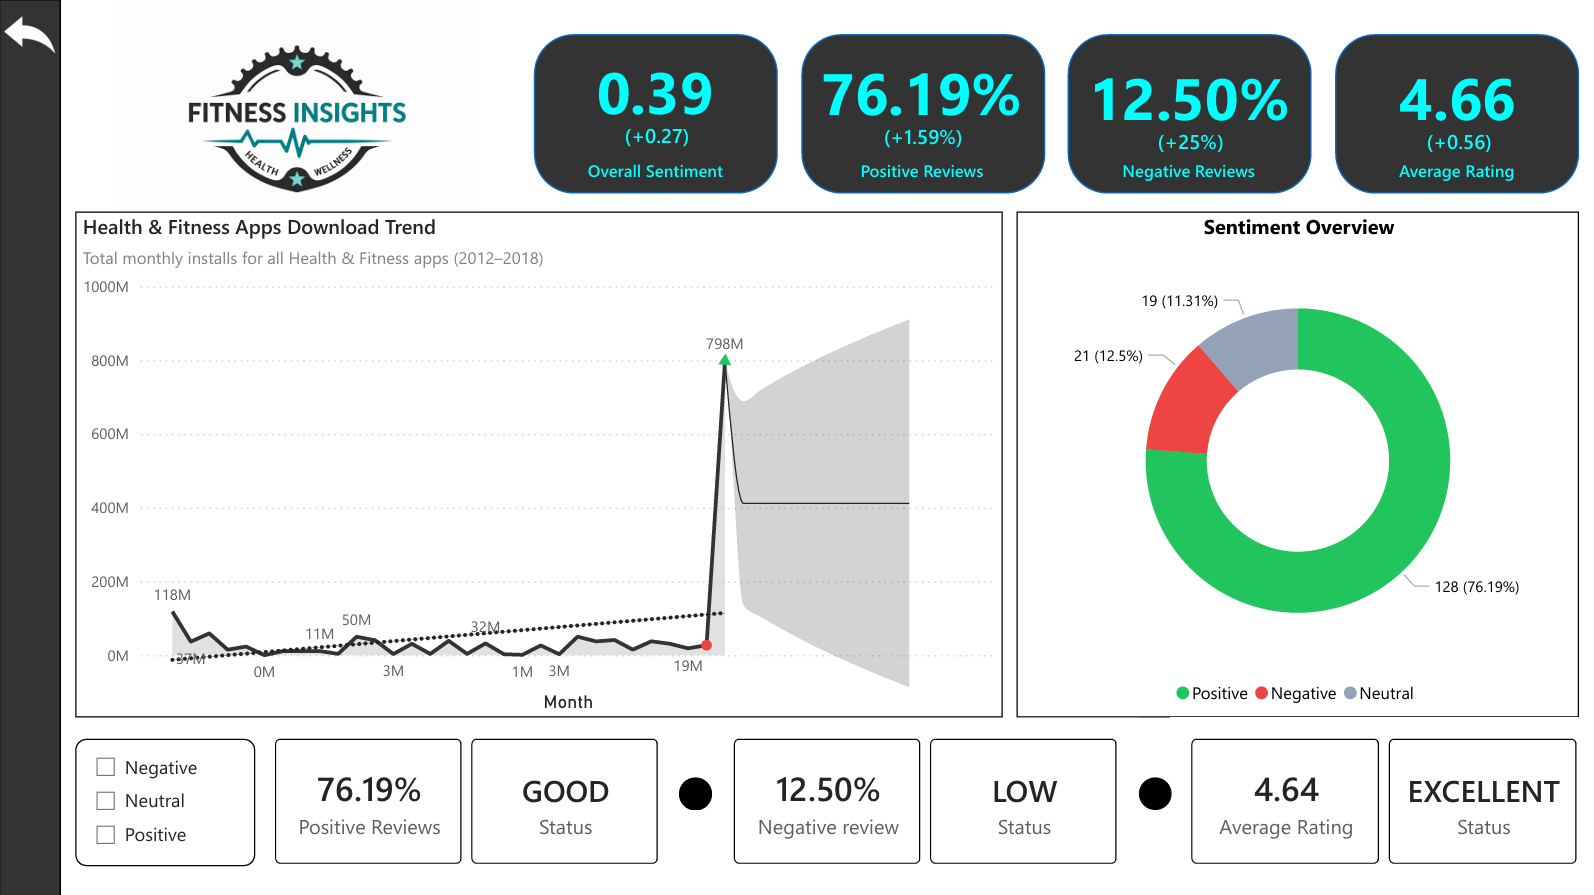

The page's visual inventory and layout, read from the dashboard file:
{"tool":"powerbi","page":{"name":"Sentiment Overview","canvas":[1280,720],"ordinal":0},"visuals":[{"type":"image","box":[60.9,0,357.2,193],"z":0},{"type":"shape","box":[1069.1,27.8,195,127.5],"z":1000},{"type":"shape","box":[855.3,27.8,195,127.5],"z":2000},{"type":"shape","box":[641.6,27.8,195,127.5],"z":3000},{"type":"donutChart","title":"Sentiment Overview","fields":{"Category":["clean_health_reviews.Sentiment"],"Y":["sentiment_by_feature.Count of sentiment"]},"box":[814.4,170,450.3,405.5],"z":4000},{"type":"cardVisual","fields":{"Data":["Measure (2).Positive review %","Measure (2).Positive Status"]},"box":[204.5,575.5,341.2,134.4],"z":5000},{"type":"shape","box":[427.8,27.8,195,127.5],"z":6000},{"type":"kpi","title":"Overall Sentiment","fields":{"Indicator":["Measure.Overall sentiment"],"Goal":["Measure.Target Sentiment score"],"TrendLine":["clean_health_reviews.Sentiment"]},"box":[436.5,32.2,175.8,118.3],"z":7000},{"type":"kpi","title":"Negative Reviews","fields":{"Indicator":["Measure.Negative review %"],"Goal":["Measure.Target Negative Review %"],"TrendLine":["emotion_analysis.Percentage of Reviews"]},"box":[863.8,36.8,175.8,119.5],"z":8000},{"type":"kpi","title":"Positive Reviews","fields":{"Goal":["Measure.Target Positive review"],"Indicator":["Measure.Positive review %"],"TrendLine":["emotion_analysis.Percentage of Reviews"]},"box":[650.2,33.3,175.8,118.3],"z":9000},{"type":"kpi","title":"Average Rating","fields":{"Indicator":["Measure.Average rating"],"Goal":["Measure.Target Average Rating"],"TrendLine":["clean_health_reviews.Rating Stars"]},"box":[1079.8,36.8,173.5,119.5],"z":10000},{"type":"shape","box":[0,0,49.4,720.2],"z":11000},{"type":"textbox","box":[674.3,122.9,128.7,28.7],"z":12000},{"type":"textbox","box":[887.9,122.9,127.5,28.7],"z":13000},{"type":"textbox","box":[1102.7,122.9,126.4,28.7],"z":14000},{"type":"textbox","box":[461.8,122.9,126.4,28.7],"z":15000},{"type":"cardVisual","fields":{"Data":["Measure.Negative review %","Measure.Negative Status"]},"box":[570.9,575.5,341.2,134.4],"z":16000},{"type":"cardVisual","fields":{"Data":["Measure.Average rating","Measure.Rating Status"]},"box":[937.3,575.5,342.3,134.4],"z":17000},{"type":"slicer","title":"Sentiments","fields":{"Values":["clean_health_reviews.Sentiment"]},"box":[60.9,591.6,143.6,102.2],"z":18000},{"type":"image","box":[0,0,49.4,57.4],"z":19000},{"type":"lineChart","title":"Health & Fitness Apps Download Trend ","fields":{"Category":["health_fitness_apps_installs.DateStr.Variation.Date Hierarchy.Year","health_fitness_apps_installs.DateStr.Variation.Date Hierarchy.Quarter","health_fitness_apps_installs.DateStr.Variation.Date Hierarchy.Month","health_fitness_apps_installs.DateStr.Variation.Date Hierarchy.Day"],"Y":["Sum(health_fitness_apps_installs.Installs_clean)"]},"box":[60.9,170,742.1,405.5],"z":20000},{"type":"shape","box":[544.5,622.6,26.4,26.4],"z":21000},{"type":"shape","box":[912.1,622.6,26,26],"z":22000}]}

Visuals, with their boxes in screenshot pixels (x1, y1, x2, y2), scaled from the page's 1280x720 canvas onto the 1594x895 screenshot:
image: region(76, 0, 521, 240)
shape: region(1331, 35, 1574, 193)
shape: region(1065, 35, 1308, 193)
shape: region(799, 35, 1042, 193)
"Sentiment Overview" donutChart: region(1014, 211, 1575, 715)
cardVisual - Measure (2).Positive review % x Measure (2).Positive Status: region(255, 715, 680, 882)
shape: region(533, 35, 776, 193)
"Overall Sentiment" kpi: region(544, 40, 763, 187)
"Negative Reviews" kpi: region(1076, 46, 1295, 194)
"Positive Reviews" kpi: region(810, 41, 1029, 188)
"Average Rating" kpi: region(1345, 46, 1561, 194)
shape: region(0, 0, 62, 894)
textbox: region(840, 153, 1000, 188)
textbox: region(1106, 153, 1264, 188)
textbox: region(1373, 153, 1531, 188)
textbox: region(575, 153, 732, 188)
cardVisual - Measure.Negative review % x Measure.Negative Status: region(711, 715, 1136, 882)
cardVisual - Measure.Average rating x Measure.Rating Status: region(1167, 715, 1593, 882)
"Sentiments" slicer: region(76, 735, 255, 862)
image: region(0, 0, 62, 71)
"Health & Fitness Apps Download Trend " lineChart: region(76, 211, 1000, 715)
shape: region(678, 774, 711, 807)
shape: region(1136, 774, 1168, 806)
